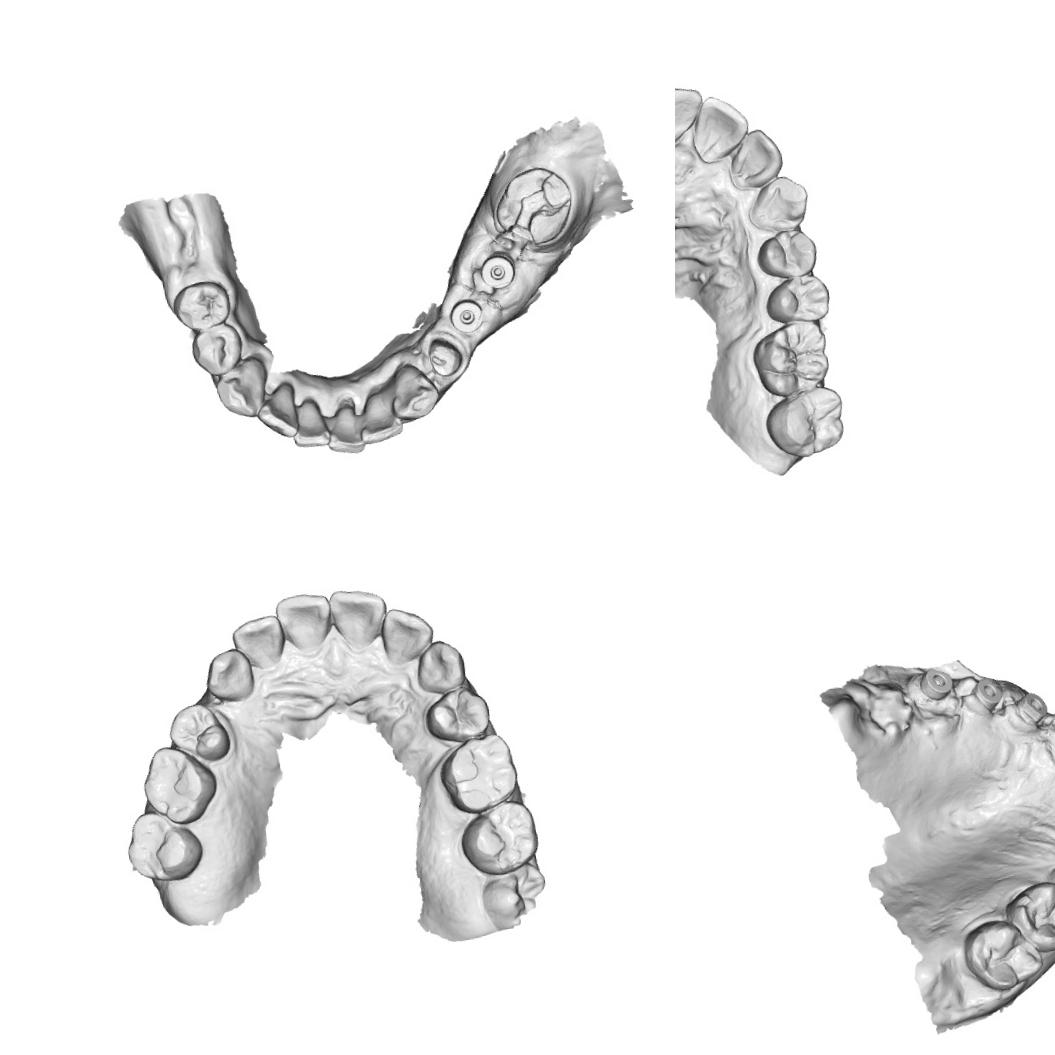canine: (210, 353, 274, 426), (744, 172, 812, 236), (387, 359, 448, 426), (202, 645, 258, 706), (412, 637, 468, 697)
crown: (422, 332, 467, 381)
implant: (472, 243, 524, 298), (436, 289, 489, 337), (918, 664, 956, 703), (1015, 688, 1050, 726), (971, 676, 1006, 714)
incisor: (688, 90, 754, 166), (327, 584, 392, 652), (273, 588, 337, 656), (723, 126, 786, 192), (355, 381, 410, 451), (377, 604, 437, 666), (230, 612, 288, 674), (251, 380, 305, 442), (320, 392, 370, 458), (288, 394, 334, 452), (675, 82, 709, 154)
inlay: (496, 161, 577, 250)
molar: (134, 739, 222, 830), (436, 730, 522, 818), (456, 796, 542, 880), (760, 382, 849, 463), (120, 804, 207, 886), (748, 318, 832, 401), (960, 914, 1046, 995), (1001, 876, 1055, 957)
premolar: (421, 682, 493, 746), (166, 700, 233, 768), (168, 276, 236, 336), (763, 272, 834, 328), (753, 226, 821, 282), (187, 320, 247, 380)
